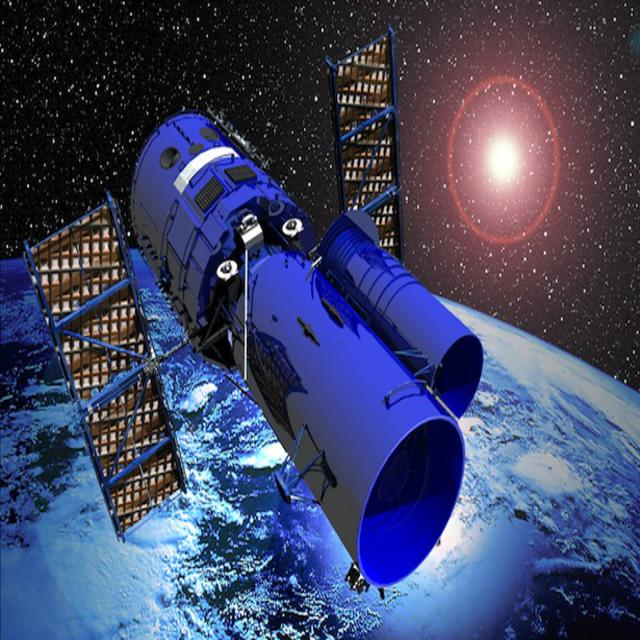medium_debris: (28, 19, 487, 603)
